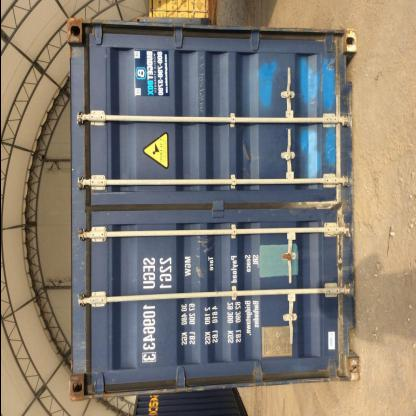Damage: (291, 50, 347, 116), (240, 54, 283, 112), (292, 128, 339, 178)
